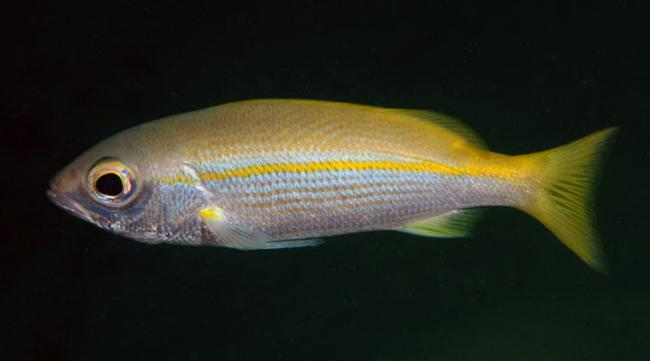fish: (47, 101, 622, 272)
